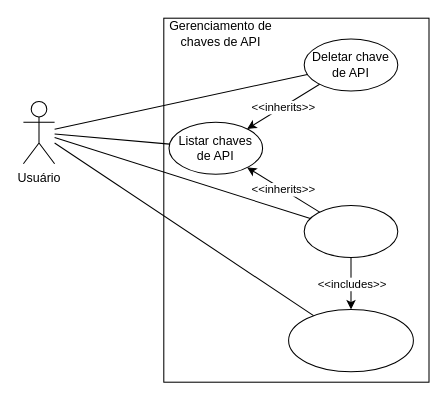
This 447x400 diagram has some shape labels left out. Here are the shapes that lost their labels. From the top down, the centre of each, then its label:
At (x=350, y=230): "Cadastrar chave de API".
At (x=350, y=340): "Checar conexão com a rede social".
